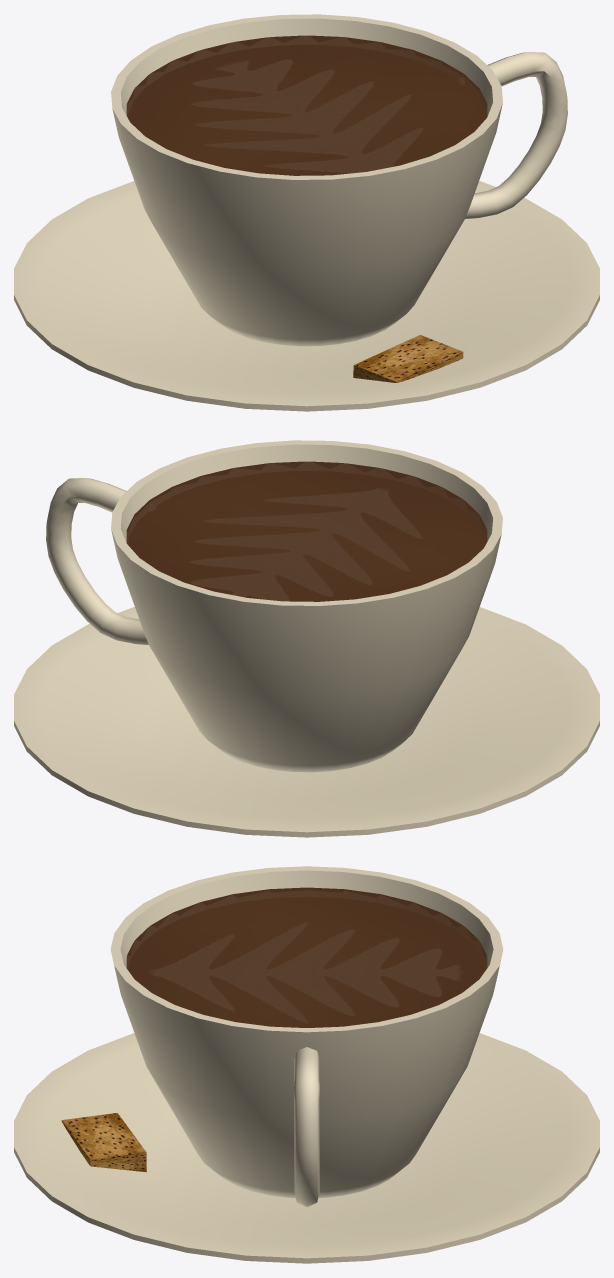
File: drink_cappuccino_rosetta.glb
The picture shows the model from 3 angles, top to bottom: view 1: azimuth 30°, elevation 25°; view 2: azimuth 150°, elevation 25°; view 3: azimuth 270°, elevation 25°; orthographic projection.
Visible parts, largest first — view 1: drink_cappuccino_rosetta; view 2: drink_cappuccino_rosetta; view 3: drink_cappuccino_rosetta.
Boxes of the visible parts, box(x1,y1,x2,y2) form: drink_cappuccino_rosetta: box(14, 14, 599, 411); drink_cappuccino_rosetta: box(14, 440, 599, 837); drink_cappuccino_rosetta: box(14, 866, 599, 1263).
Size of the model in its own units: 0.1817 by 0.076 by 0.179.
Materials: 4 (2 with a texture image).
